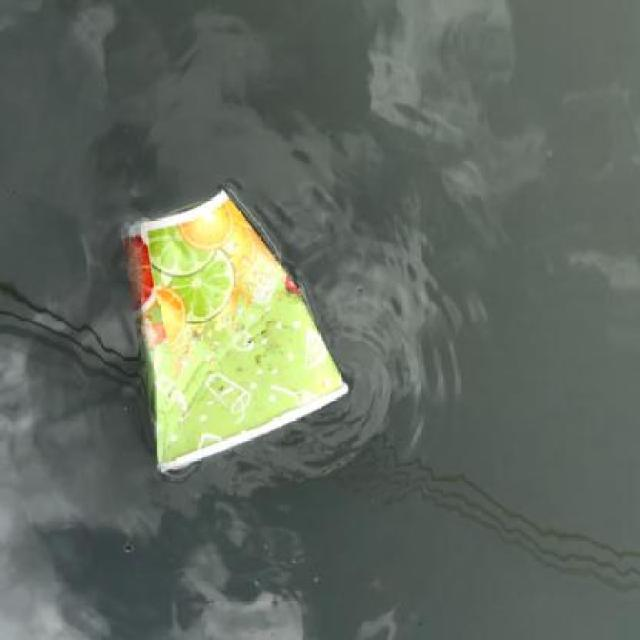Plastic cup: (105, 180, 365, 477)
